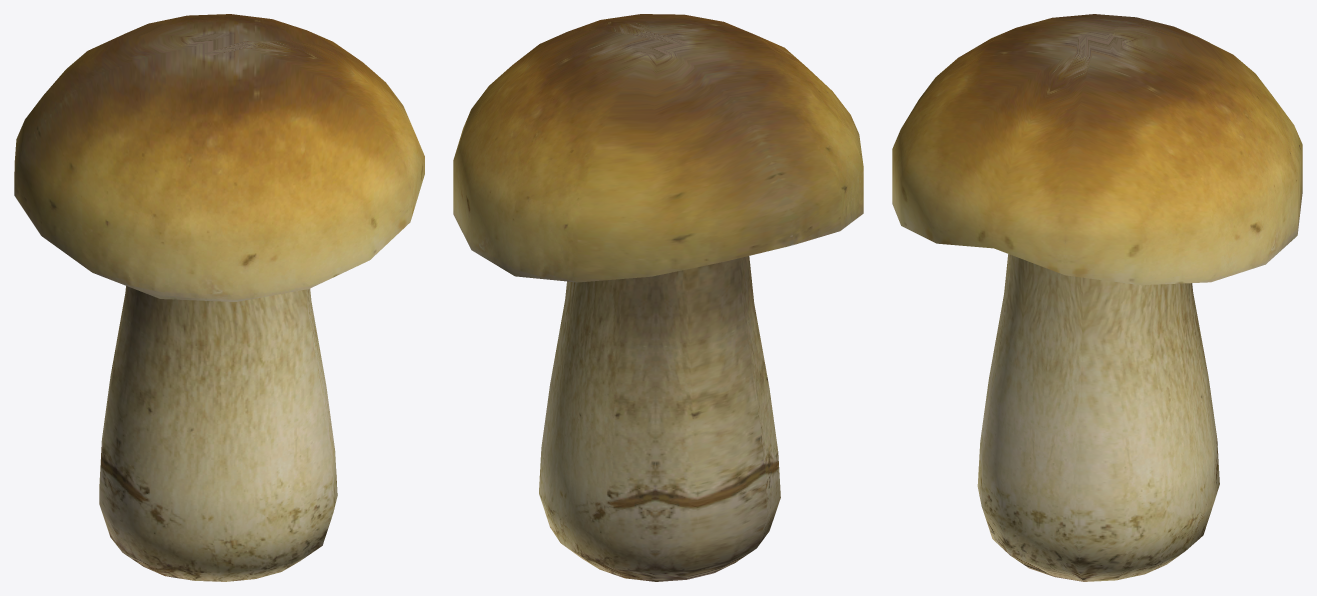
The model's file is toadstool1_b.obj.
The picture shows the model from 3 angles, left to right: view 1: azimuth 30°, elevation 25°; view 2: azimuth 150°, elevation 25°; view 3: azimuth 270°, elevation 25°; orthographic projection.
Visible parts, largest first — view 1: toadstool1_b; view 2: toadstool1_b; view 3: toadstool1_b.
Boxes of the visible parts, x1,y1,x2,y2 form: toadstool1_b: (14, 14, 424, 581); toadstool1_b: (453, 14, 863, 581); toadstool1_b: (892, 14, 1302, 581).
Bounding box in the file's own units: 17.6 × 23.8 × 17.64.
Materials: 1 (1 with a texture image).
